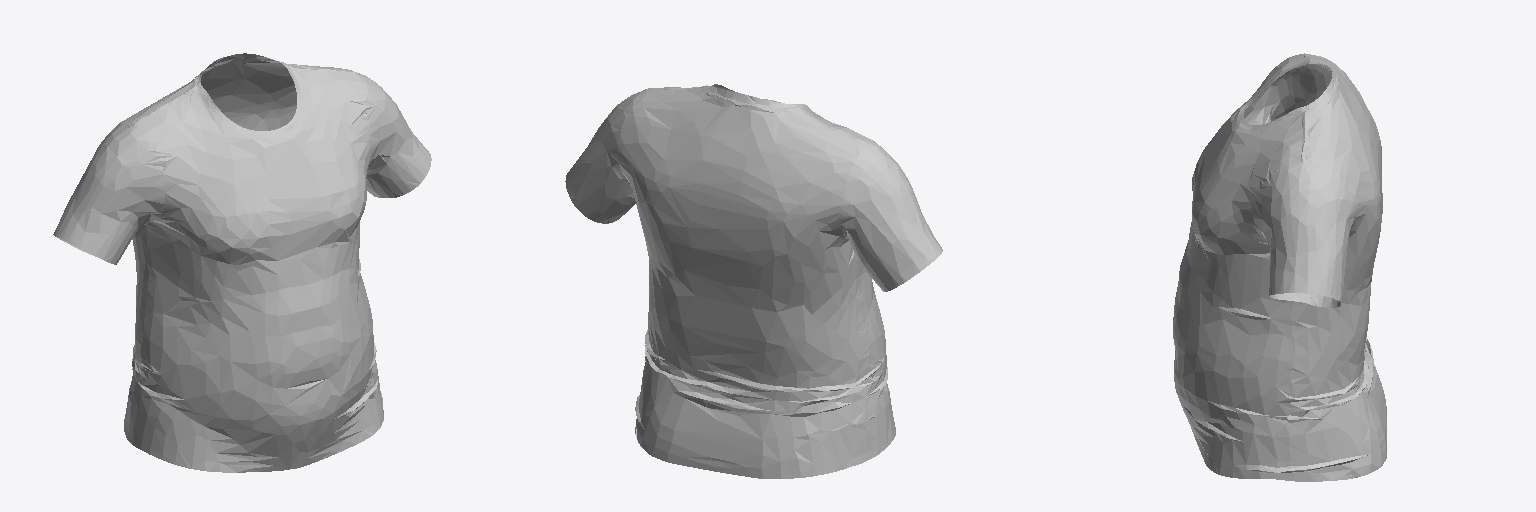
Rendered from tshirt_188_c119_w116_d95_p1_scaled.obj.
3 views of the same model, side by side, from view 1: azimuth 30°, elevation 25°; view 2: azimuth 150°, elevation 25°; view 3: azimuth 270°, elevation 25° (orthographic).
Visible parts, largest first — view 1: tshirt_188_c119_w116:Mesh1; view 2: tshirt_188_c119_w116:Mesh1; view 3: tshirt_188_c119_w116:Mesh1.
Boxes of the visible parts, <box> form: tshirt_188_c119_w116:Mesh1: <box>53,53,431,472</box>; tshirt_188_c119_w116:Mesh1: <box>565,84,942,478</box>; tshirt_188_c119_w116:Mesh1: <box>1173,53,1386,481</box>.
Bounding box in the file's own units: 2.17 × 2.05 × 1.1.